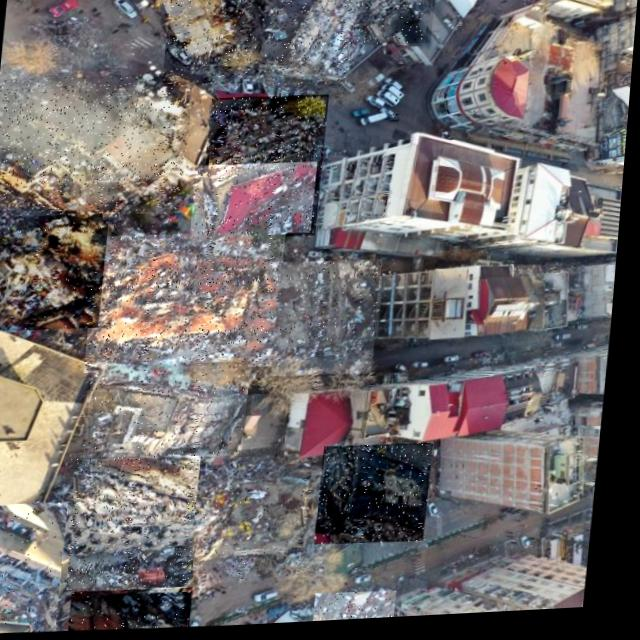Rubble: (89, 230, 288, 377), (0, 71, 194, 220), (73, 454, 210, 596), (201, 95, 330, 243), (87, 361, 256, 465), (0, 201, 113, 333), (203, 456, 315, 588), (275, 261, 386, 381), (322, 445, 440, 550), (0, 501, 76, 636), (193, 163, 319, 241), (161, 0, 265, 89), (262, 1, 354, 90), (78, 588, 202, 634), (354, 0, 435, 50), (322, 594, 405, 625)
